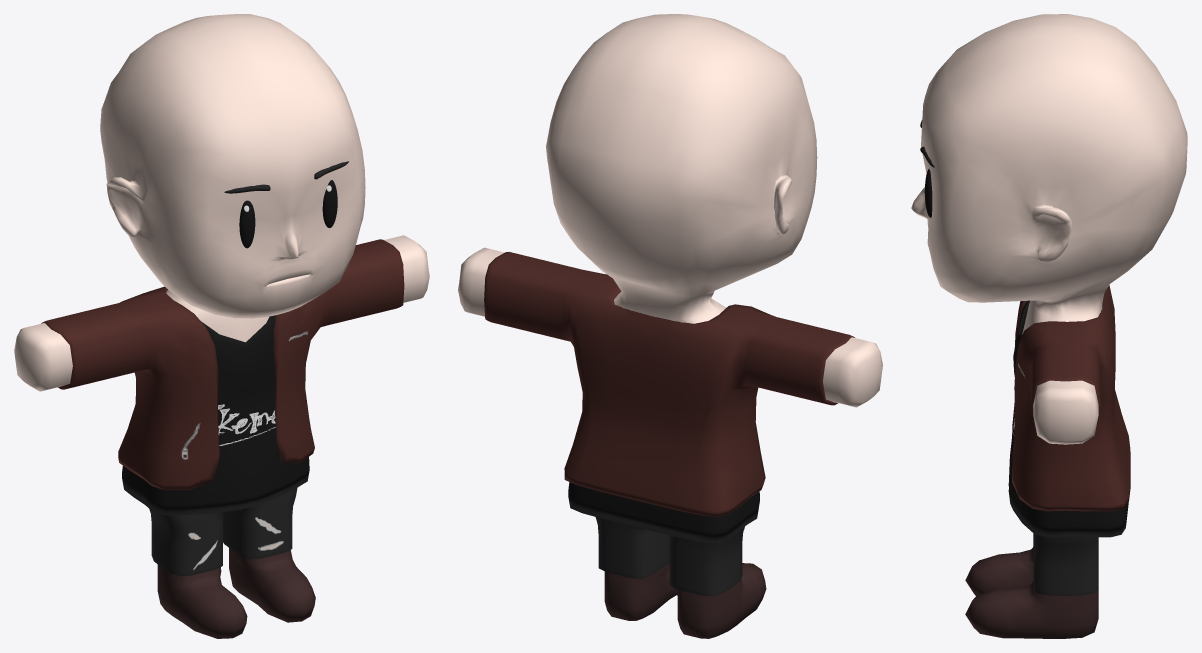
The model's file is shujinnkou.fbx.
3 renders of one model, left to right at view 1: azimuth 30°, elevation 25°; view 2: azimuth 150°, elevation 25°; view 3: azimuth 270°, elevation 25°, orthographic. The views are drawn at different scales.
Parts seen in each view (by area): view 1: pSphere5, outer, inner1, inner, polySurface1; view 2: pSphere5, outer, inner1, inner; view 3: pSphere5, outer, inner1, inner.
Boxes of the visible parts, left/top/right/bottom form: pSphere5: left=14, top=14, right=429, bottom=391; outer: left=41, top=239, right=404, bottom=489; inner1: left=149, top=487, right=315, bottom=638; inner: left=122, top=315, right=309, bottom=515; polySurface1: left=239, top=200, right=255, bottom=248; pSphere5: left=458, top=14, right=882, bottom=407; outer: left=484, top=252, right=854, bottom=517; inner1: left=595, top=517, right=766, bottom=638; inner: left=568, top=482, right=759, bottom=543; pSphere5: left=911, top=14, right=1187, bottom=444; outer: left=1012, top=285, right=1130, bottom=511; inner1: left=965, top=533, right=1098, bottom=638; inner: left=1008, top=300, right=1128, bottom=537.
Bounding box in the file's own units: 78.91 × 109 × 46.37.
Materials: 6 (6 with a texture image).
